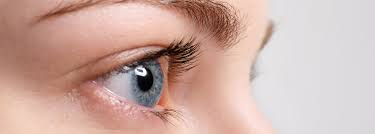pupil: (130, 62, 163, 105)
